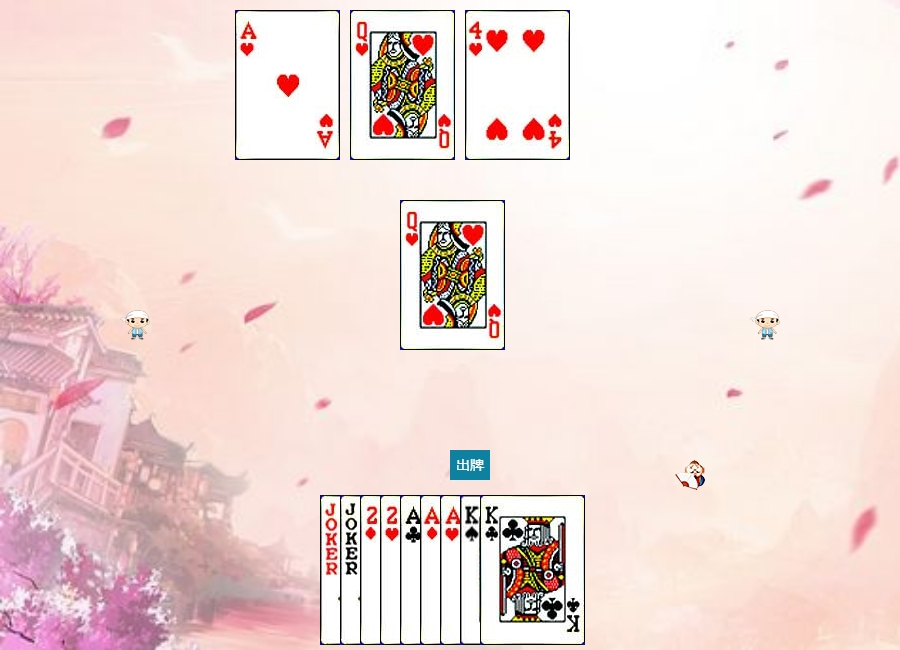12~3: (350, 10, 455, 160), (400, 200, 505, 350)
13~2: (480, 495, 585, 645)
13~4: (460, 495, 565, 645)
14~1: (420, 495, 525, 645)
14~2: (400, 495, 505, 645)
14~3: (235, 10, 340, 160), (440, 495, 545, 645)
15~1: (360, 495, 465, 645)
15~3: (380, 495, 485, 645)
17~3: (340, 495, 445, 645)
18~4: (320, 495, 425, 645)
4~3: (465, 10, 570, 160)
